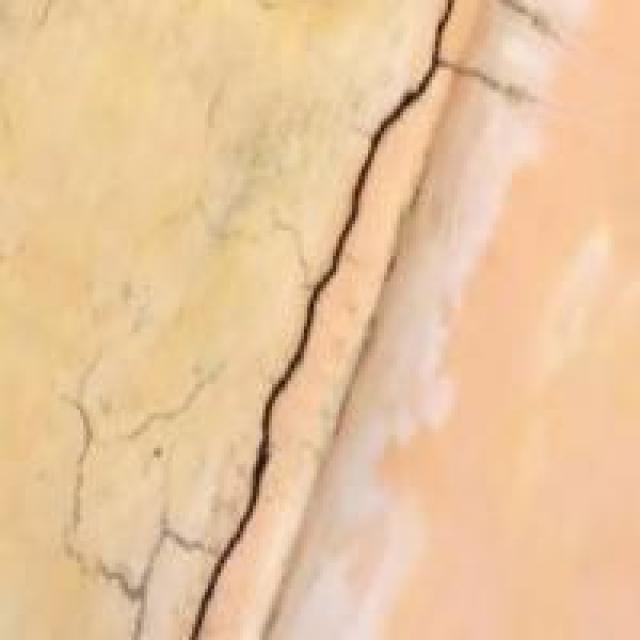Crack: (147, 9, 451, 636)
